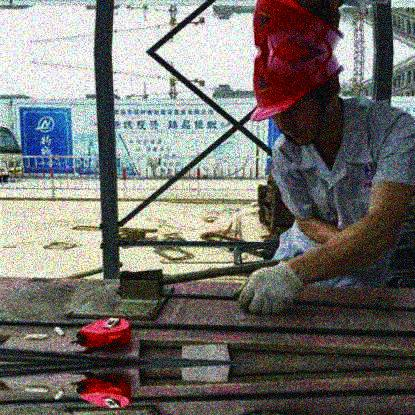helmet: (248, 49, 345, 148)
